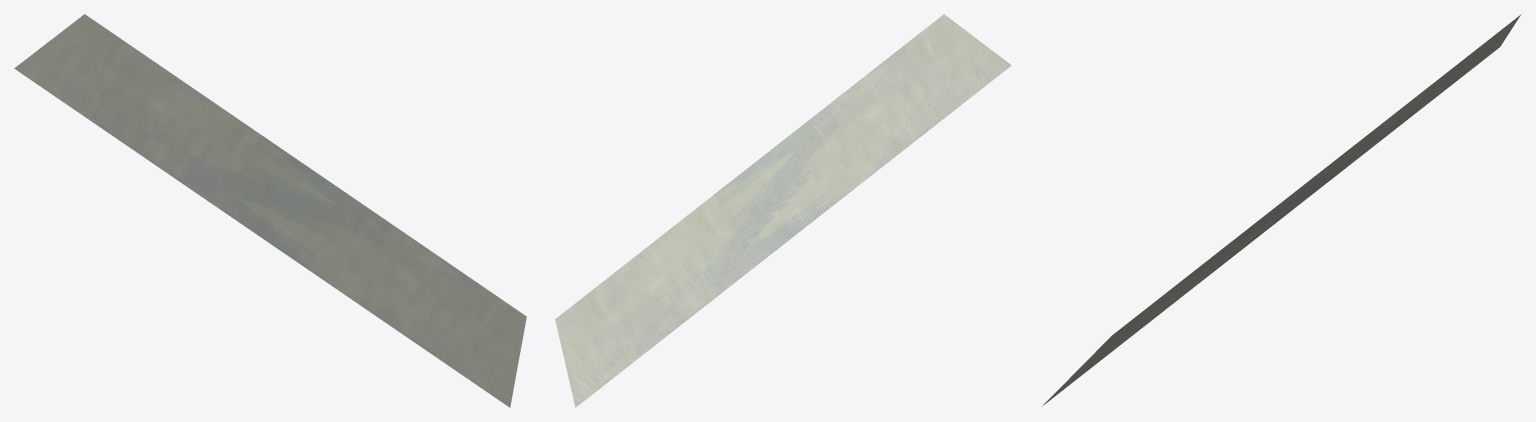
Rendered from 人民英雄纪念碑128.dae.
3 renders of one model, left to right at view 1: azimuth 30°, elevation 25°; view 2: azimuth 150°, elevation 25°; view 3: azimuth 330°, elevation 25°, orthographic. The views are drawn at different scales.
Visible parts, largest first — view 1: SketchUp; view 2: SketchUp; view 3: SketchUp.
Boxes of the visible parts, x1=… form: SketchUp: x1=14, y1=14, x2=526, y2=407; SketchUp: x1=555, y1=14, x2=1011, y2=407; SketchUp: x1=1042, y1=14, x2=1521, y2=406.
Size of the model in its own units: 25.95 by 315 by 22.67.
